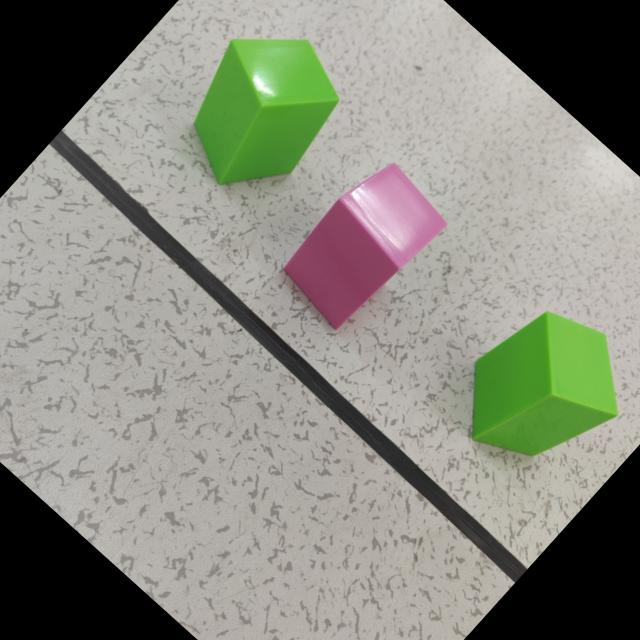green: (468, 311, 617, 458), (192, 39, 337, 186)
pink: (280, 164, 445, 331)
